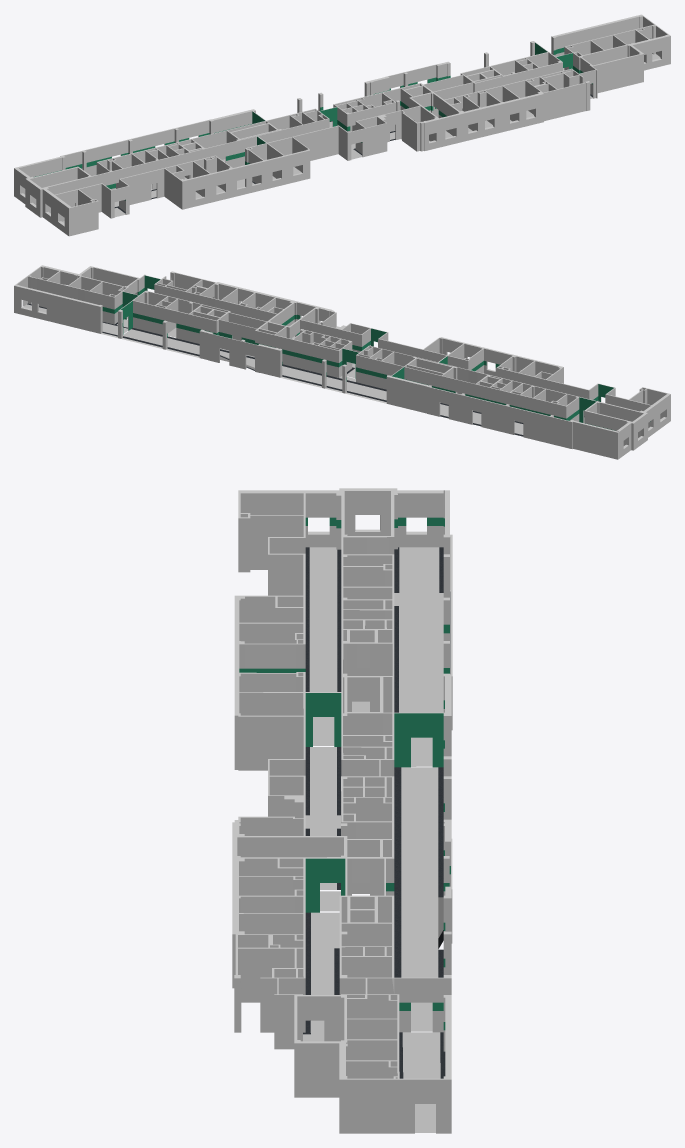
Rendered from corridor_3rdFloor.fbx.
The picture shows the model from 3 angles, top to bottom: view 1: azimuth 30°, elevation 25°; view 2: azimuth 150°, elevation 25°; view 3: azimuth 270°, elevation 25°; orthographic projection. The views are drawn at different scales.
Parts seen in each view (by area): view 1: Plane; view 2: Plane; view 3: Plane.
Boxes of the visible parts, box(x1,y1,x2,y2) form: Plane: box(14, 14, 670, 236); Plane: box(14, 265, 670, 459); Plane: box(232, 488, 452, 1133).
Size of the model in its own units: 9842 by 420 by 1549.
